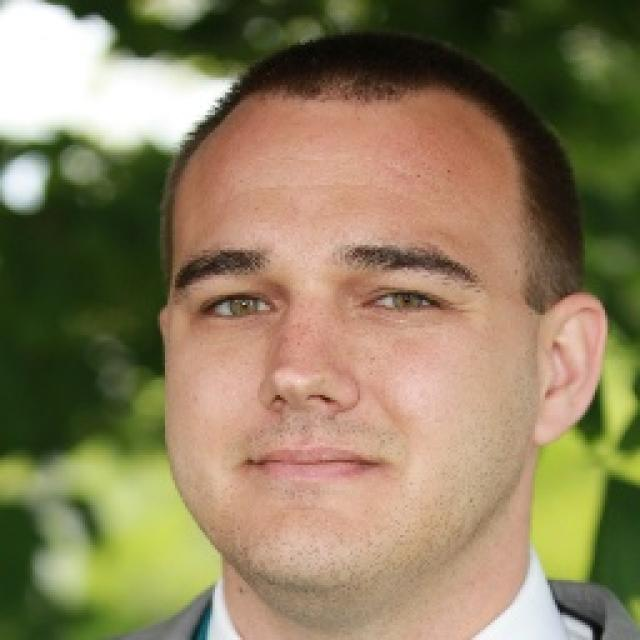earlobe: (532, 394, 569, 446)
eye: (199, 290, 278, 321), (359, 288, 442, 314)
nose: (258, 383, 350, 443)
wholeear: (533, 293, 607, 446)
